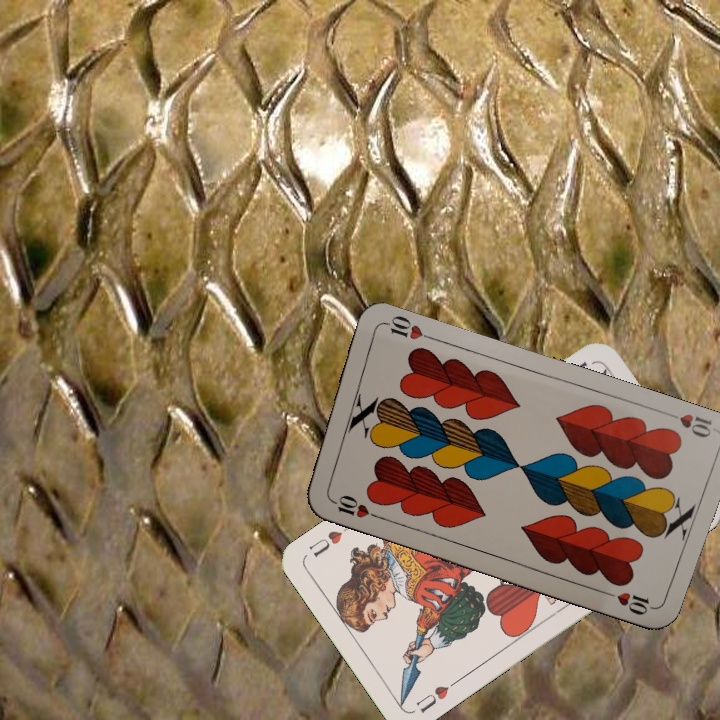H10: (659, 408, 714, 441), (325, 491, 382, 522)
HU: (411, 675, 461, 716)
